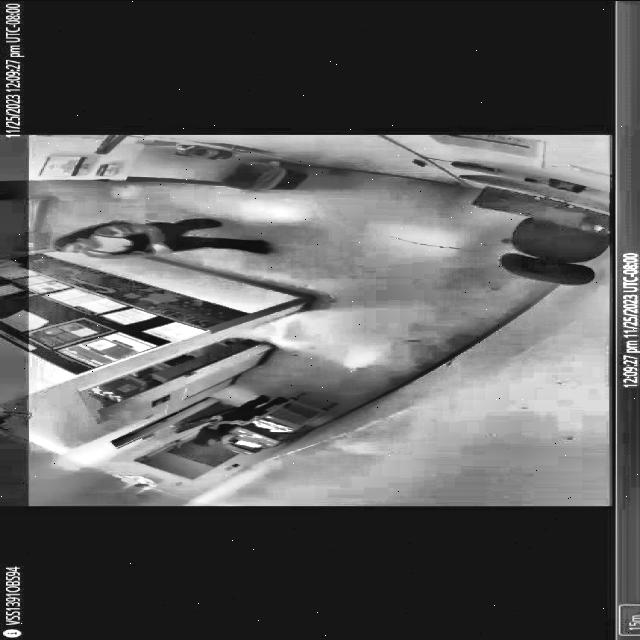not-gloved: (145, 237, 182, 255)
